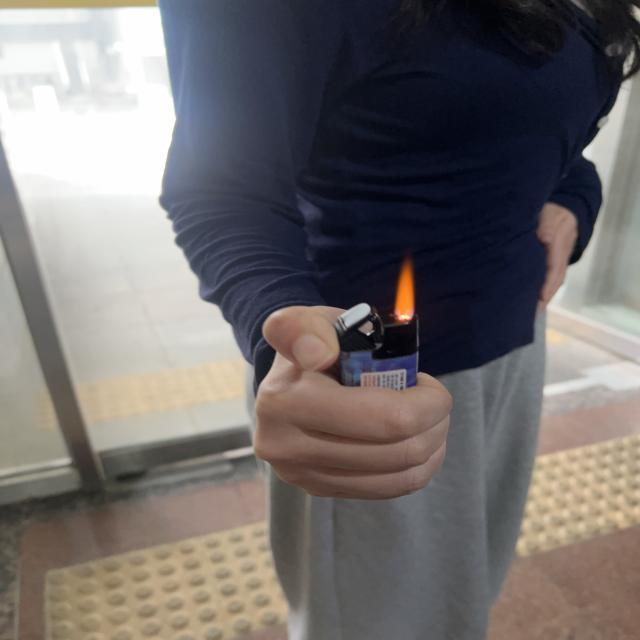fire: (397, 256, 417, 323)
